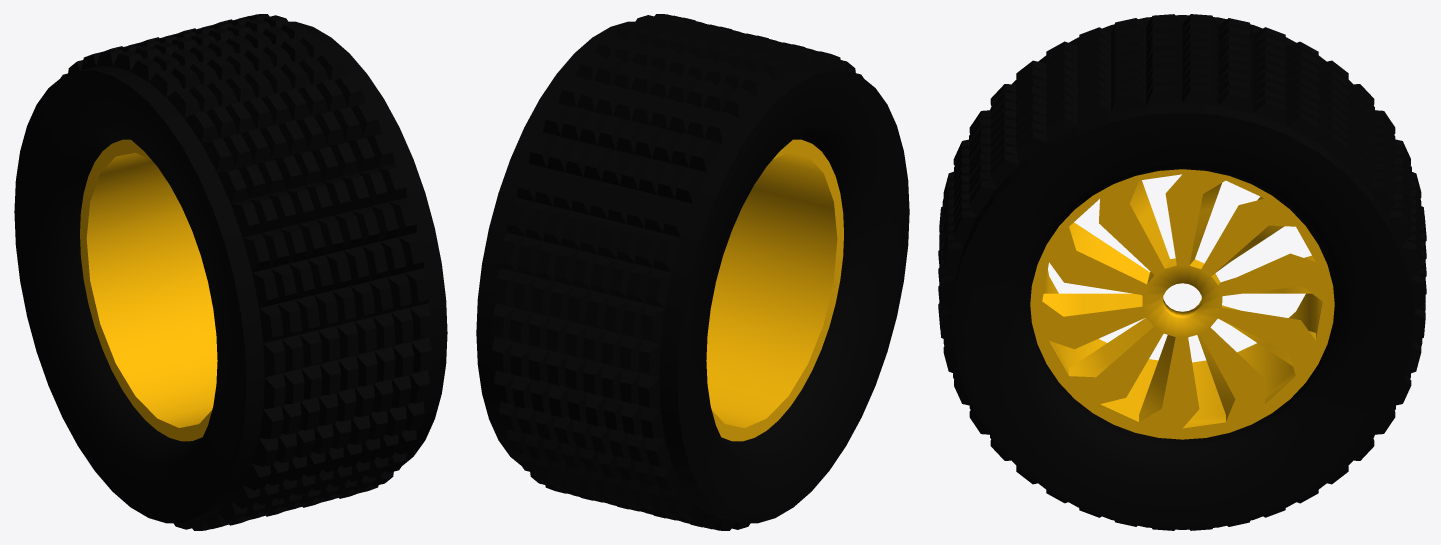
Rendered from space_buggy_wheel.glb.
3 views of the same model, side by side, from view 1: azimuth 30°, elevation 25°; view 2: azimuth 150°, elevation 25°; view 3: azimuth 270°, elevation 25° (orthographic).
Visible parts, largest first — view 1: pPipe1_Pneus_0, pCylinder62_Jantes_0; view 2: pPipe1_Pneus_0, pCylinder62_Jantes_0; view 3: pPipe1_Pneus_0, pCylinder62_Jantes_0.
Boxes of the visible parts, left/top/right/bottom form: pPipe1_Pneus_0: left=14, top=14, right=447, bottom=530; pCylinder62_Jantes_0: left=80, top=139, right=217, bottom=441; pPipe1_Pneus_0: left=476, top=14, right=909, bottom=530; pCylinder62_Jantes_0: left=706, top=139, right=843, bottom=441; pPipe1_Pneus_0: left=938, top=14, right=1426, bottom=530; pCylinder62_Jantes_0: left=1030, top=169, right=1334, bottom=439.
Size of the model in its own units: 0.457 by 0.9674 by 0.9674.
